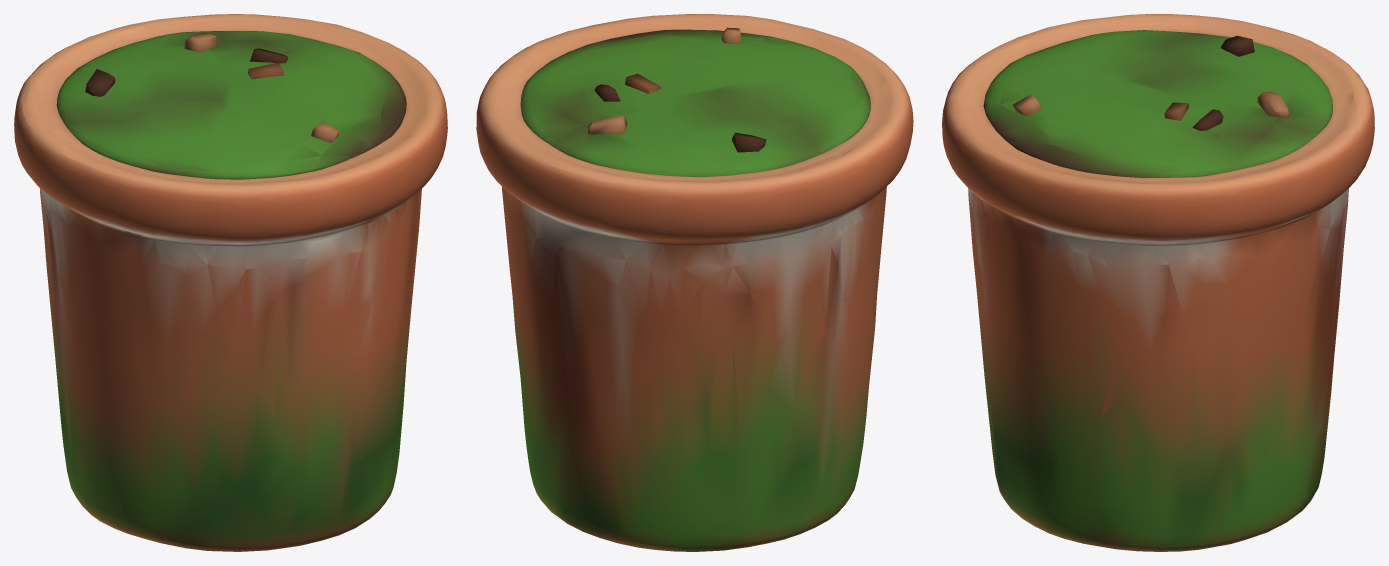
The model's file is canopy_pot_c_lod1.glb.
The picture shows the model from 3 angles, left to right: view 1: azimuth 30°, elevation 25°; view 2: azimuth 150°, elevation 25°; view 3: azimuth 270°, elevation 25°; orthographic projection.
Parts seen in each view (by area): view 1: canopy_pot_c.001; view 2: canopy_pot_c.001; view 3: canopy_pot_c.001.
Boxes of the visible parts, x1,y1,x2,y2 form: canopy_pot_c.001: (14, 14, 447, 551); canopy_pot_c.001: (476, 14, 913, 551); canopy_pot_c.001: (942, 14, 1374, 551).
Bounding box in the file's own units: 10.06 × 10.48 × 10.02.
